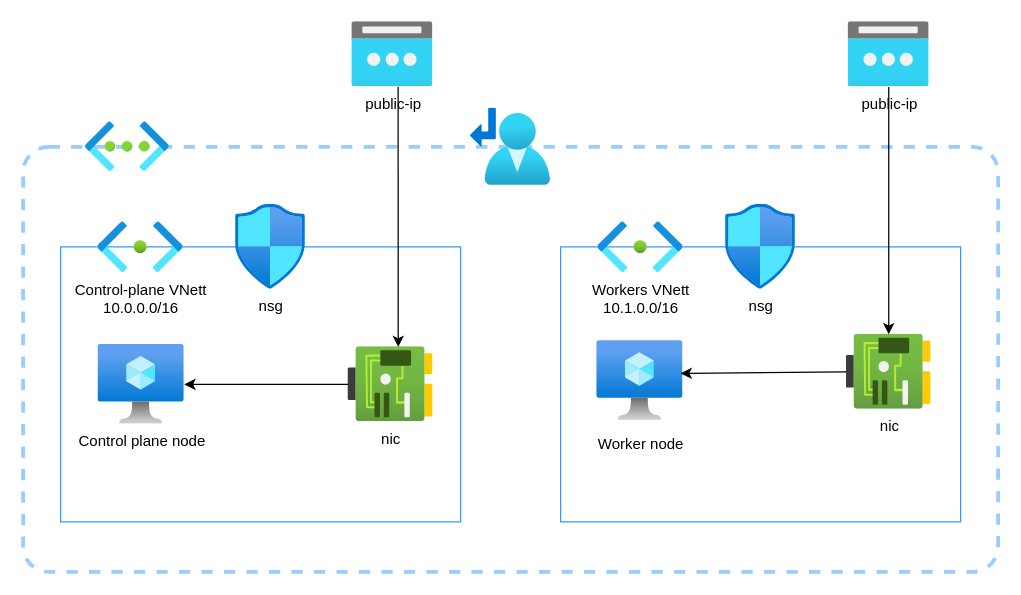
The diagram is 1021 pixels wide and 595 high, and some of its shapes have lost their labels. Each missing label, with the box of its shape:
Cluster Vnet 10.0.0.0/8: (85, 121, 169, 171)
route-table: (470, 108, 550, 185)
